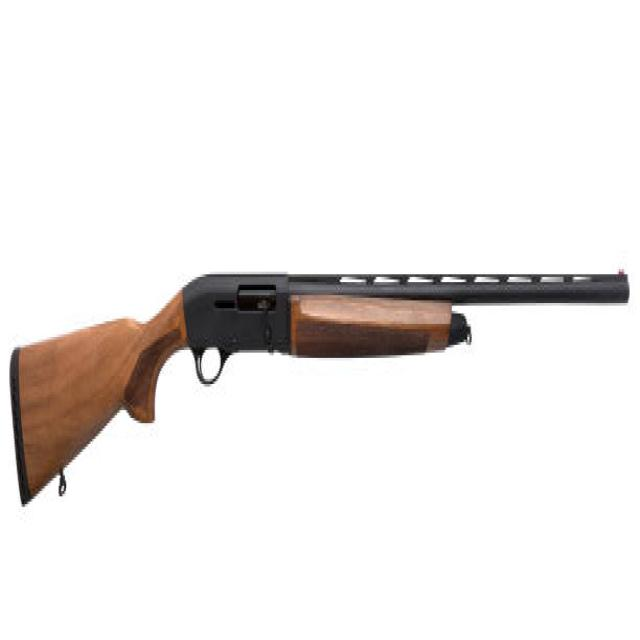rifle: (10, 241, 632, 517)
